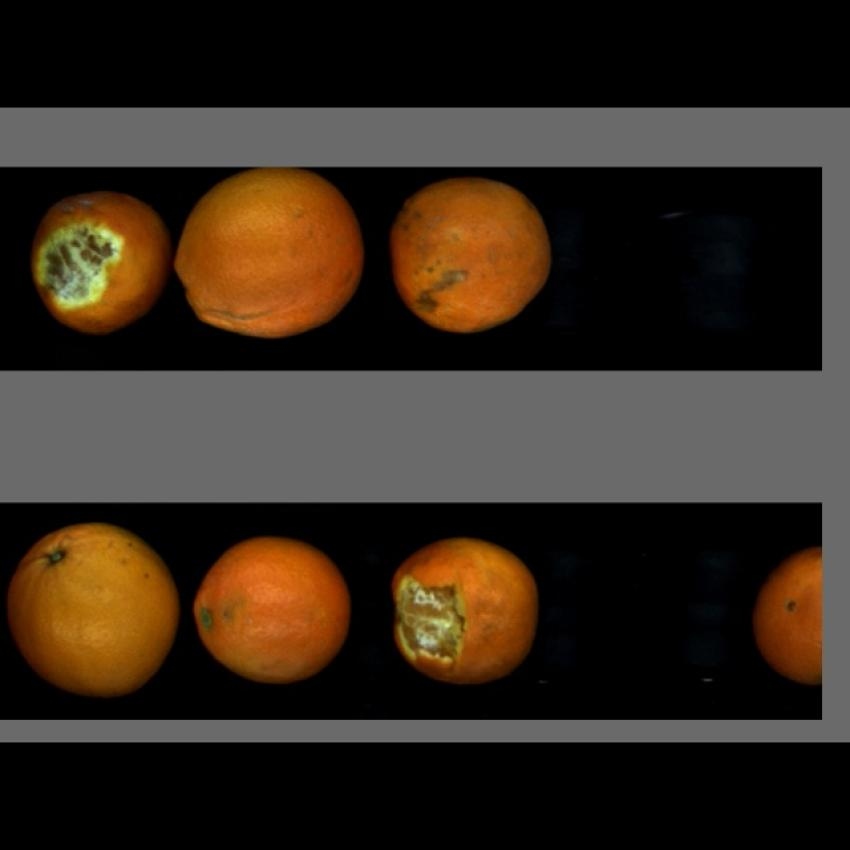Buen estado: (175, 168, 373, 337), (6, 518, 182, 701), (187, 526, 356, 686), (742, 547, 822, 683)
Mal estado: (385, 174, 562, 333), (388, 529, 547, 689), (27, 187, 172, 333)
